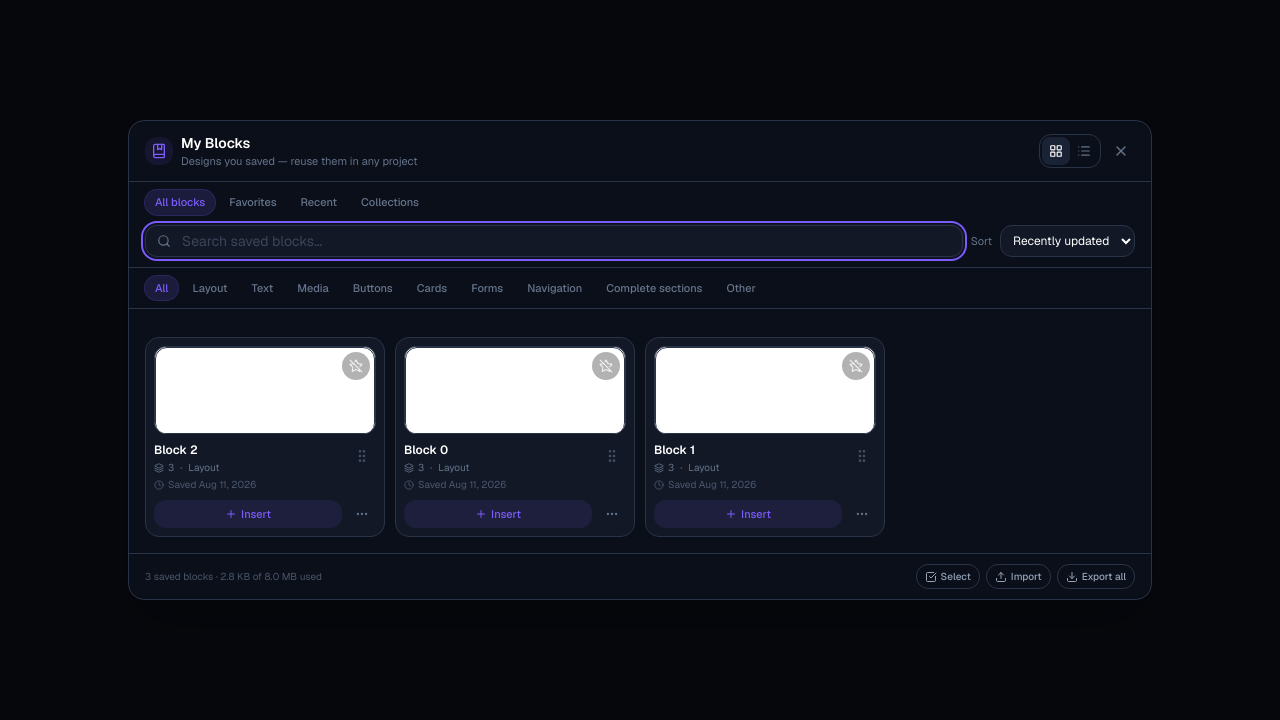
MyBlocksLibrary — selection mode and bulk actions › selection mode lets you select individual cards and counts them
What coordinates should you click on to do the following:
click the button with test id "my-blocks-select-mode"
I would click on:
 (948, 577)
Its box is x1=916 y1=564 x2=980 y2=589.
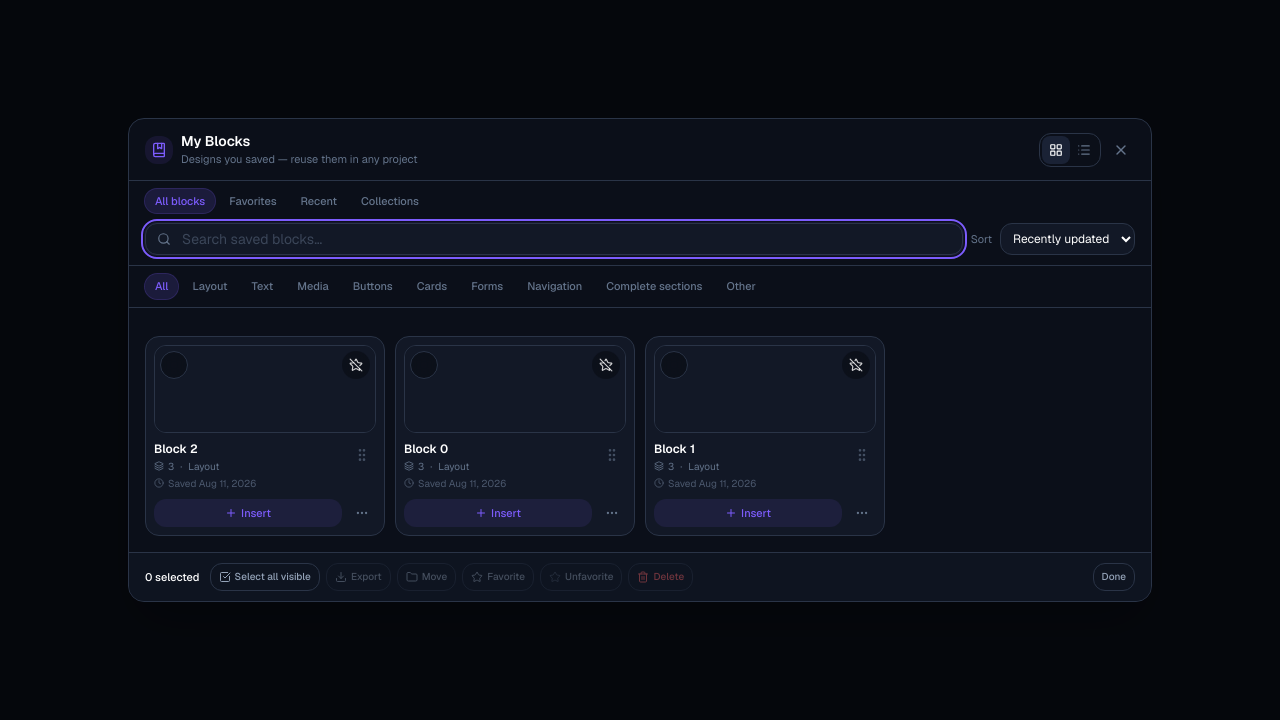
Expected: the element with test id "my-blocks-selection-toolbar" is shown, x1=129 y1=552 x2=1151 y2=601
What coordinates should you click on to do the following:
click the checkbox named "Select Block 0"
I would click on:
 (424, 365)
Its box is x1=410 y1=351 x2=438 y2=379.
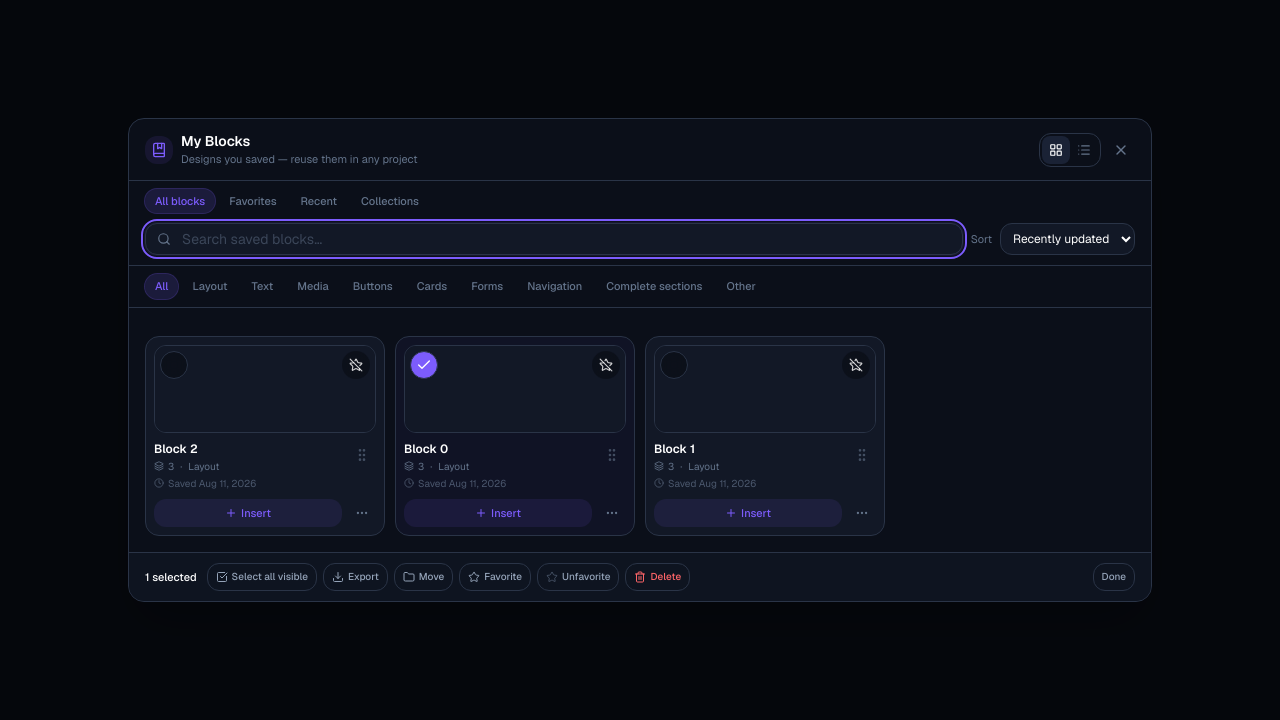
What coordinates should you click on to do the following:
click the checkbox named "Select Block 1"
I would click on:
 (674, 365)
Its box is x1=660 y1=351 x2=688 y2=379.
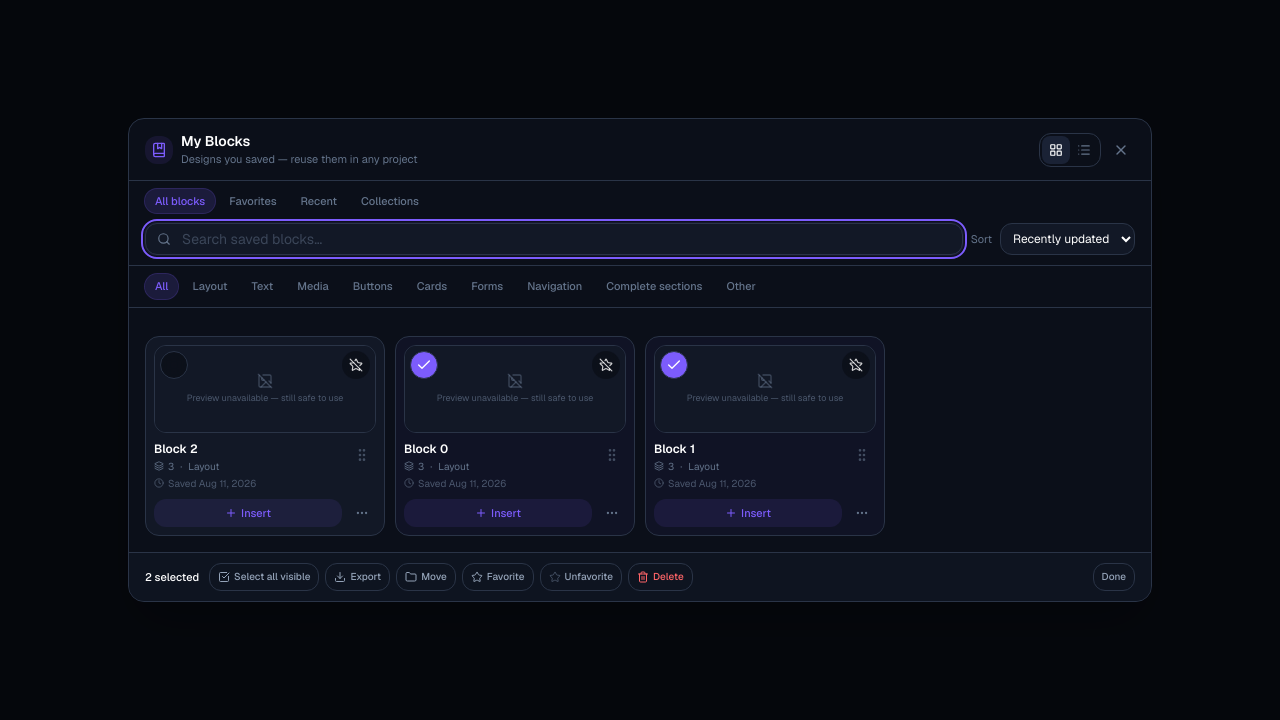
Expected: the text "2 selected" is shown, x1=145 y1=568 x2=199 y2=585
